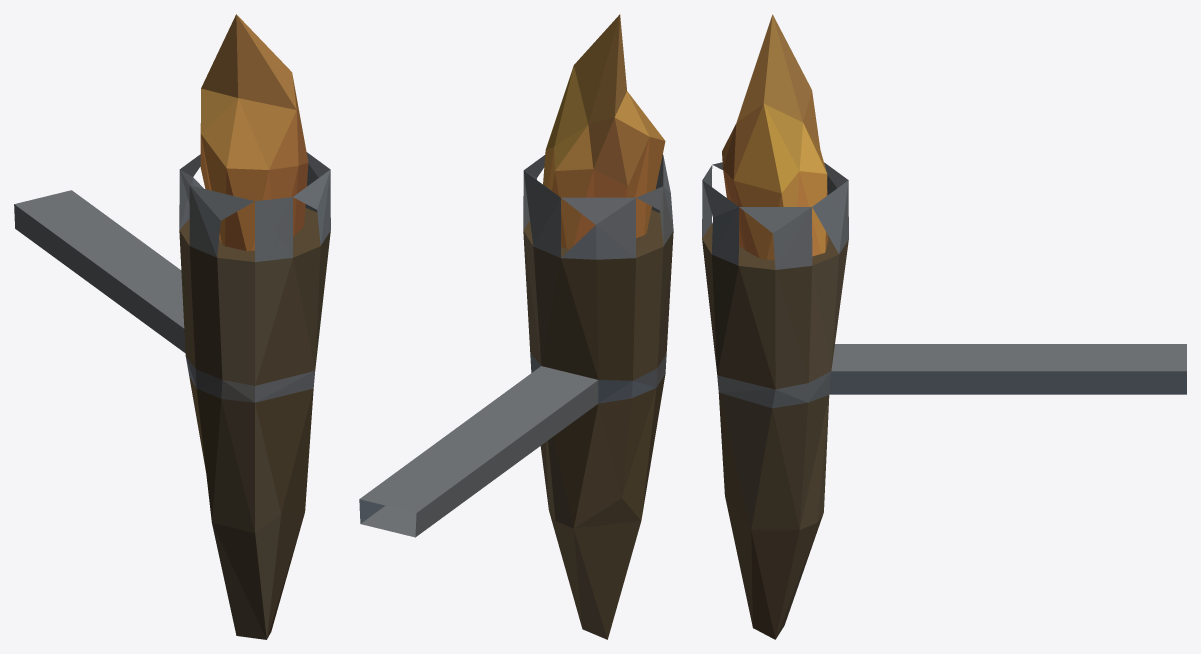
The model's file is Prop-CaveTorchA.fbx.
3 renders of one model, left to right at view 1: azimuth 30°, elevation 25°; view 2: azimuth 150°, elevation 25°; view 3: azimuth 270°, elevation 25°, orthographic. The views are drawn at different scales.
Visible parts, largest first — view 1: Prop-CaveTorchA; view 2: Prop-CaveTorchA; view 3: Prop-CaveTorchA.
Part boxes in pixels (x1,y1,x2,y2): Prop-CaveTorchA: (14,14,330,639); Prop-CaveTorchA: (359,14,673,639); Prop-CaveTorchA: (702,14,1186,639).
Size of the model in its own units: 21.36 by 97.66 by 70.5.
